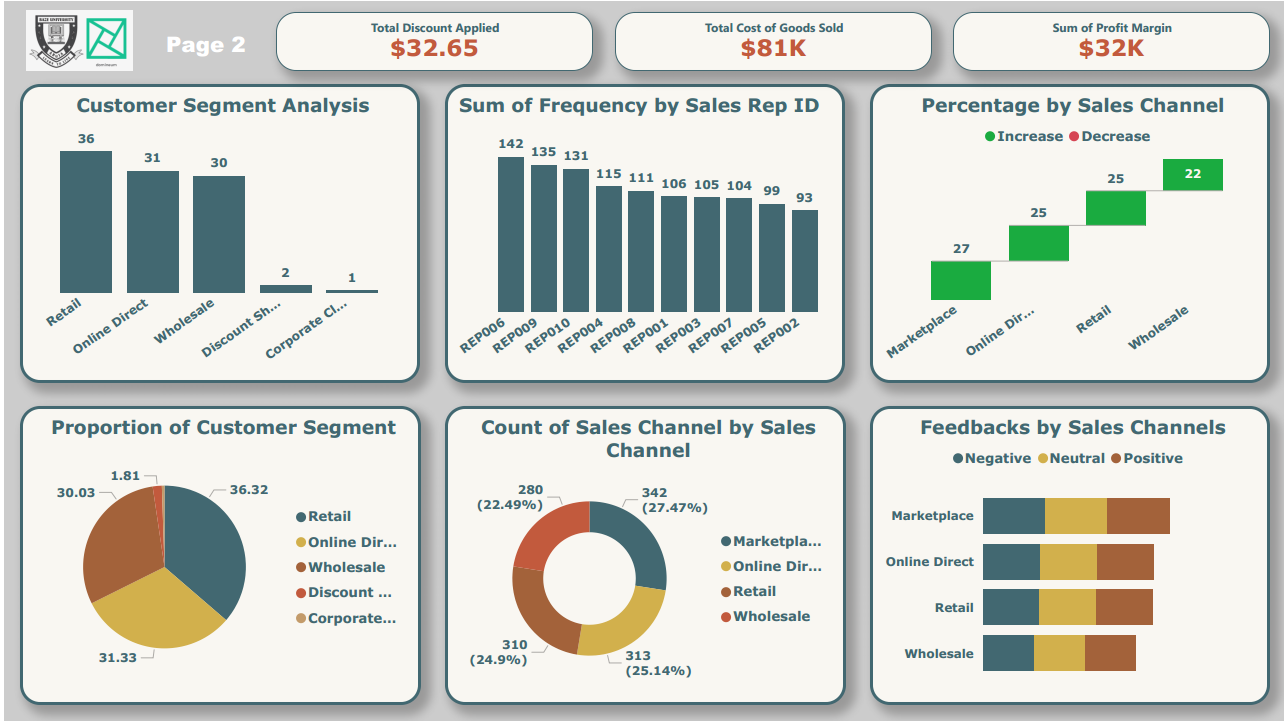

Layout of this report page (visuals, bound fields, positions):
{"tool":"powerbi","page":{"name":"Page 2","canvas":[1280,720],"ordinal":1},"visuals":[{"type":"clusteredColumnChart","title":"Customer Segment Analysis","fields":{"Category":["Customer Segment.Customer Segment"],"Y":["Sum(Customer Segment. Percentage)"]},"box":[15.6,82.7,400.7,299.6],"z":0},{"type":"waterfallChart","title":"Percentage by Sales Channel","fields":{"Category":["Sales Rep ID 2.Sales Channel"],"Y":["Sum(Sales Rep ID 2.Percentage)"]},"box":[865.7,82.7,400.7,299.6],"z":1000},{"type":"clusteredColumnChart","fields":{"Category":["Sales Rep ID 1.Sales Rep ID"],"Y":["Sum(Sales Rep ID 1.Frequency)"]},"box":[440.6,82.7,400.7,299.6],"z":2000},{"type":"pieChart","title":"Proportion of Customer Segment","fields":{"Category":["Customer Segment.Customer Segment"],"Y":["Sum(Customer Segment. Percentage)"]},"box":[15.8,404.9,400.7,299.6],"z":3000},{"type":"donutChart","title":"Count of Sales Channel by Sales Channel","fields":{"Category":["Sales Channel 1.Sales Channel"],"Y":["Sum(Sales Channel 1.Count of Sales Channel)"]},"box":[440.9,404.9,400.7,299.6],"z":4000},{"type":"card","title":"Total Cost of Goods Sold","fields":{"Values":["Sum(Total COG Sold.Column2)"]},"box":[611.3,10.6,316.8,59.5],"z":5000},{"type":"card","title":"Sum of Profit Margin","fields":{"Values":["Sum(Sum of Profit Margin.B)"]},"box":[949.4,10.6,316.8,59.5],"z":6000},{"type":"card","title":"Total Discount Applied","fields":{"Values":["Sum(Sum of Discount Applied.B)"]},"box":[272.2,10.6,316.8,59.5],"z":7000},{"type":"barChart","title":"Feedbacks by Sales Channels","fields":{"Category":["Section 8a: Analysis of Sales Channels.Sales_Channel"],"Y":["Sum(Section 8a: Analysis of Sales Channels.No_of_Customer_Purchase)"],"Series":["Section 8b: Analysis of Sales Channel by Feedback.Feedback_for_SalesRep"]},"box":[865.7,404.6,400.7,299.6],"z":8000},{"type":"image","box":[15.9,5.3,118,70.2],"z":9000},{"type":"textbox","box":[152,23.4,99.9,46.8],"z":10000}]}

Visuals, with their boxes in screenshot pixels (x1, y1, x2, y2), scaled from the page's 1280x720 canvas onto the 1285x721 screenshot:
"Customer Segment Analysis" clusteredColumnChart: (16, 83, 418, 383)
"Percentage by Sales Channel" waterfallChart: (869, 83, 1271, 383)
clusteredColumnChart - Sales Rep ID 1.Sales Rep ID x Sum(Sales Rep ID 1.Frequency): (442, 83, 845, 383)
"Proportion of Customer Segment" pieChart: (16, 405, 418, 705)
"Count of Sales Channel by Sales Channel" donutChart: (443, 405, 845, 705)
"Total Cost of Goods Sold" card: (614, 11, 932, 70)
"Sum of Profit Margin" card: (953, 11, 1271, 70)
"Total Discount Applied" card: (273, 11, 591, 70)
"Feedbacks by Sales Channels" barChart: (869, 405, 1271, 705)
image: (16, 5, 134, 76)
textbox: (153, 23, 253, 70)
